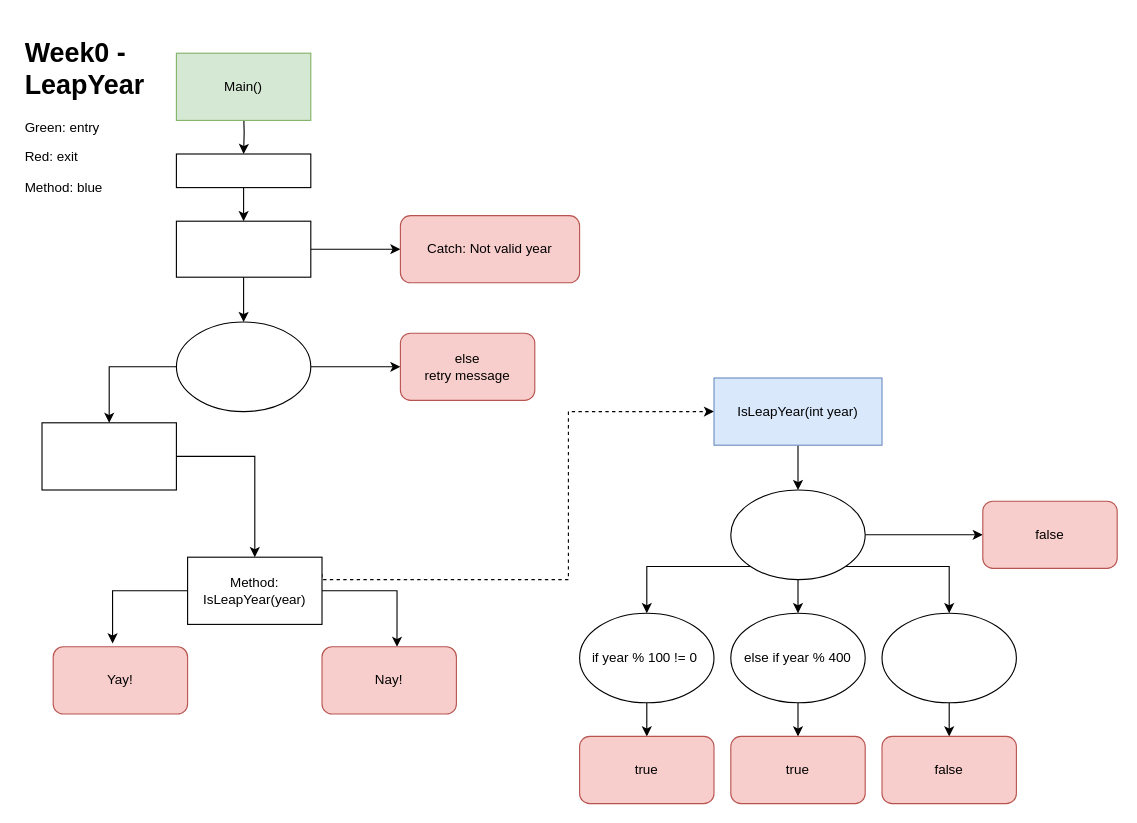
Image size: 1137x823. Some labels were removed from this diagram. Each missing label, with the centre of its shape:
else: the point at 948,657
Greating message: the point at 243,170
If != 0: the point at 243,366
If year % 4: the point at 797,534
var year try/catch conversion: the point at 243,248
year >= 1582: the point at 108,456
